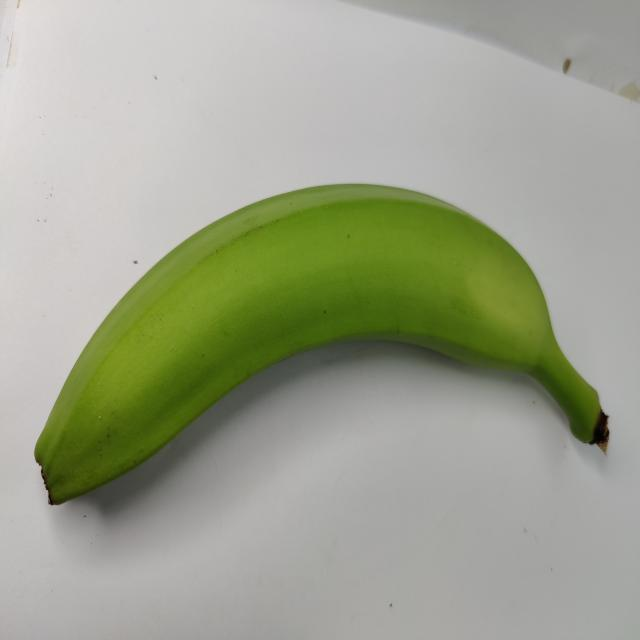raw: (25, 168, 619, 549)
